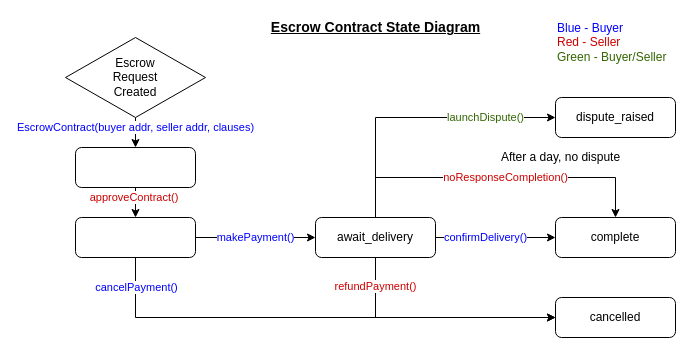
The diagram is 693 pixels wide and 355 high, and some of its shapes have lost their labels. The centre of each missing label's shape, as x and y in pixels:
await_confirmation: (x=135, y=167)
await_payment: (x=135, y=237)
